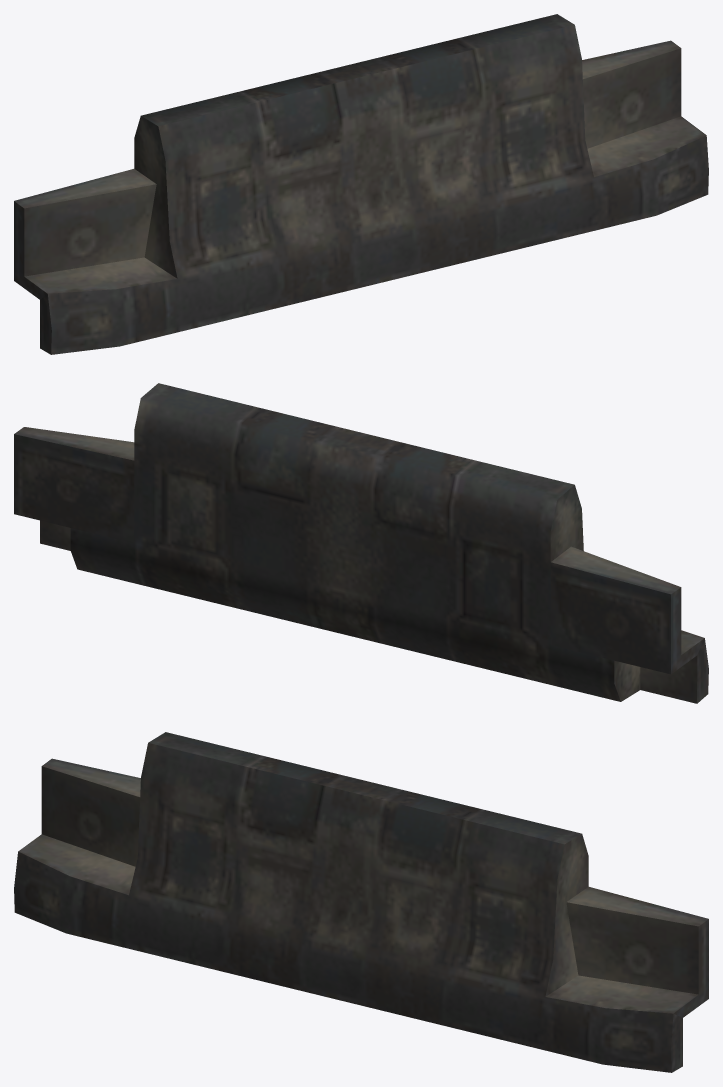
3 renders of one model, top to bottom at view 1: azimuth 30°, elevation 25°; view 2: azimuth 150°, elevation 25°; view 3: azimuth 330°, elevation 25°, orthographic.
Parts seen in each view (by area): view 1: set_0_group_0; view 2: set_0_group_0; view 3: set_0_group_0.
Part boxes in pixels (<box>): set_0_group_0: <box>14,14,708,354</box>; set_0_group_0: <box>14,383,708,703</box>; set_0_group_0: <box>14,732,708,1072</box>.
Bounding box in the file's own units: 0.6361 × 0.1769 × 0.0778.
1 material, 1 textured.
